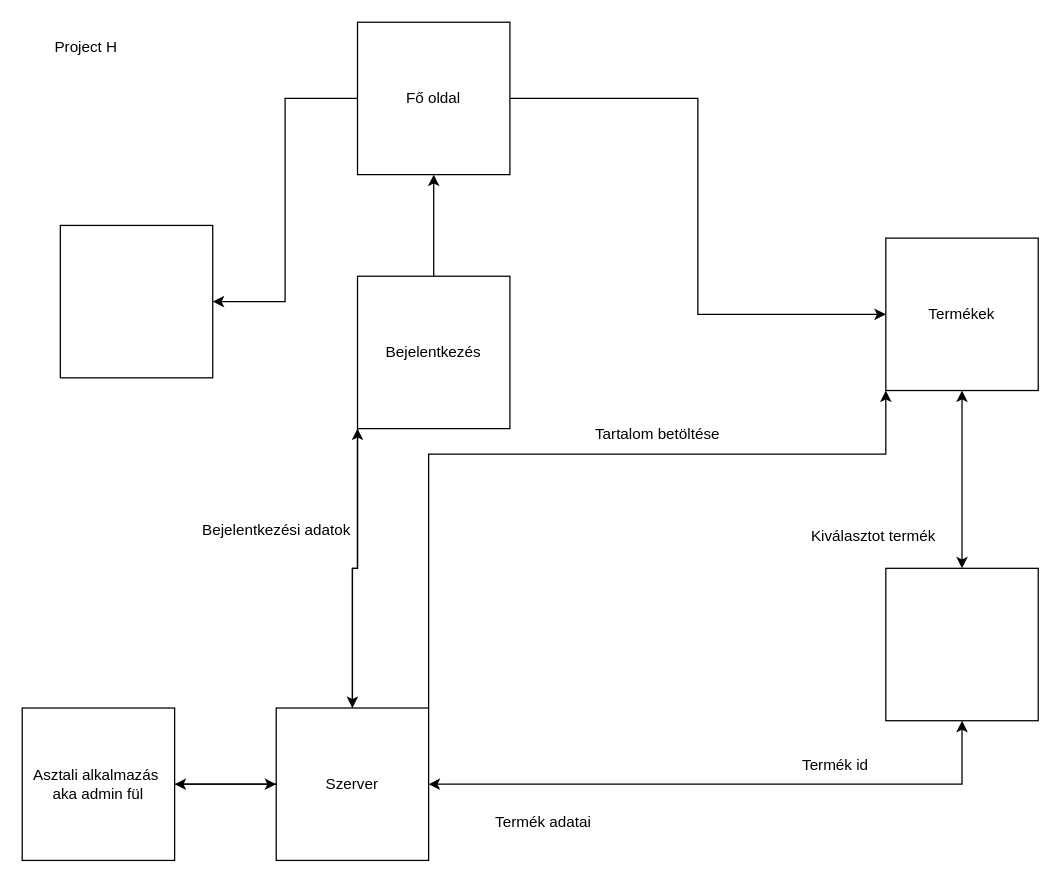
Image size: 1060x883. Some labels were removed from this diagram. The shapes that lost their labels are listed below. From the top down, each one's box as (x1, y1, x2, y2) in pixels, then its label:
(59, 224, 213, 378): Rólunk
(885, 567, 1038, 721): Termék oldal
